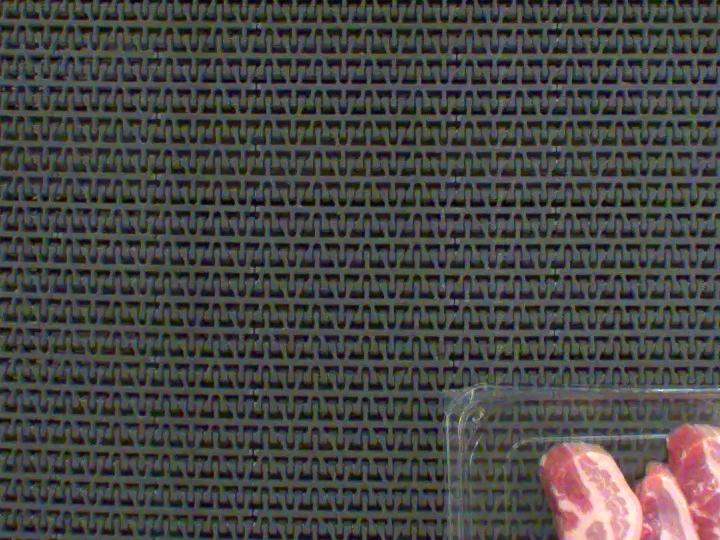packaging-error: (696, 403, 720, 435)
